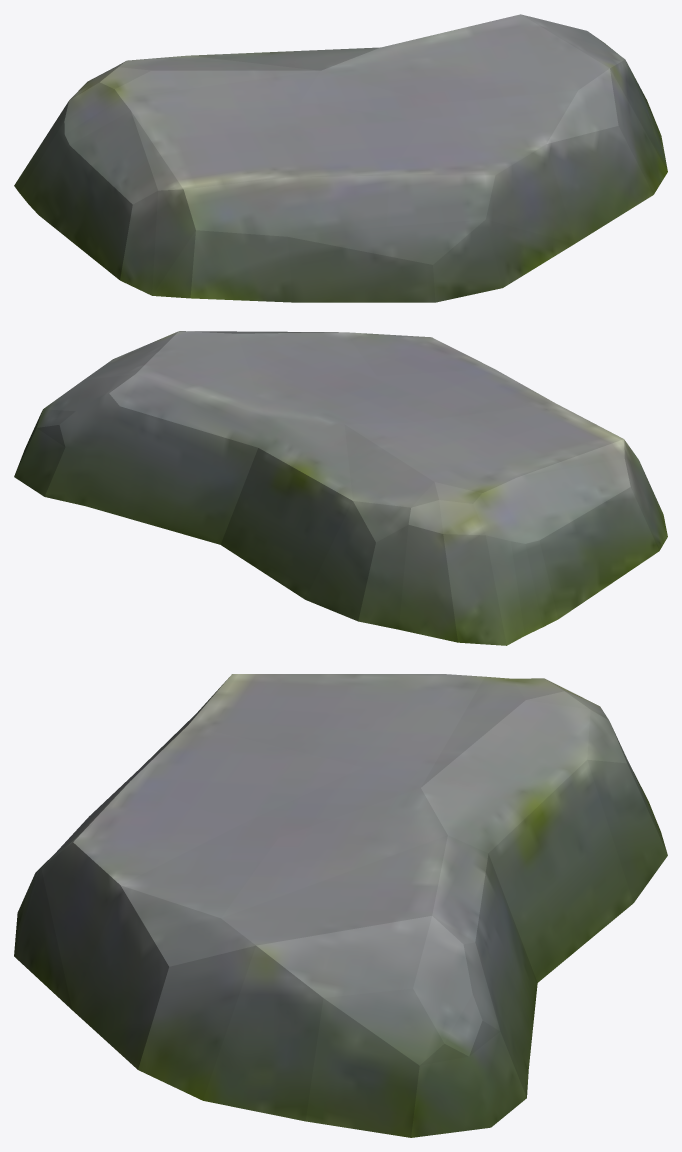
Rendered from pebble-1.glb.
The picture shows the model from 3 angles, top to bottom: view 1: azimuth 30°, elevation 25°; view 2: azimuth 150°, elevation 25°; view 3: azimuth 270°, elevation 25°; orthographic projection. The views are drawn at different scales.
Parts seen in each view (by area): view 1: Cube_017_Retopology_008; view 2: Cube_017_Retopology_008; view 3: Cube_017_Retopology_008.
Boxes of the visible parts, box(x1,y1,x2,y2) form: Cube_017_Retopology_008: box(14, 14, 667, 302); Cube_017_Retopology_008: box(14, 331, 667, 645); Cube_017_Retopology_008: box(14, 674, 667, 1137).
Size of the model in its own units: 0.5 by 0.0955 by 0.367.
1 material, 1 textured.
